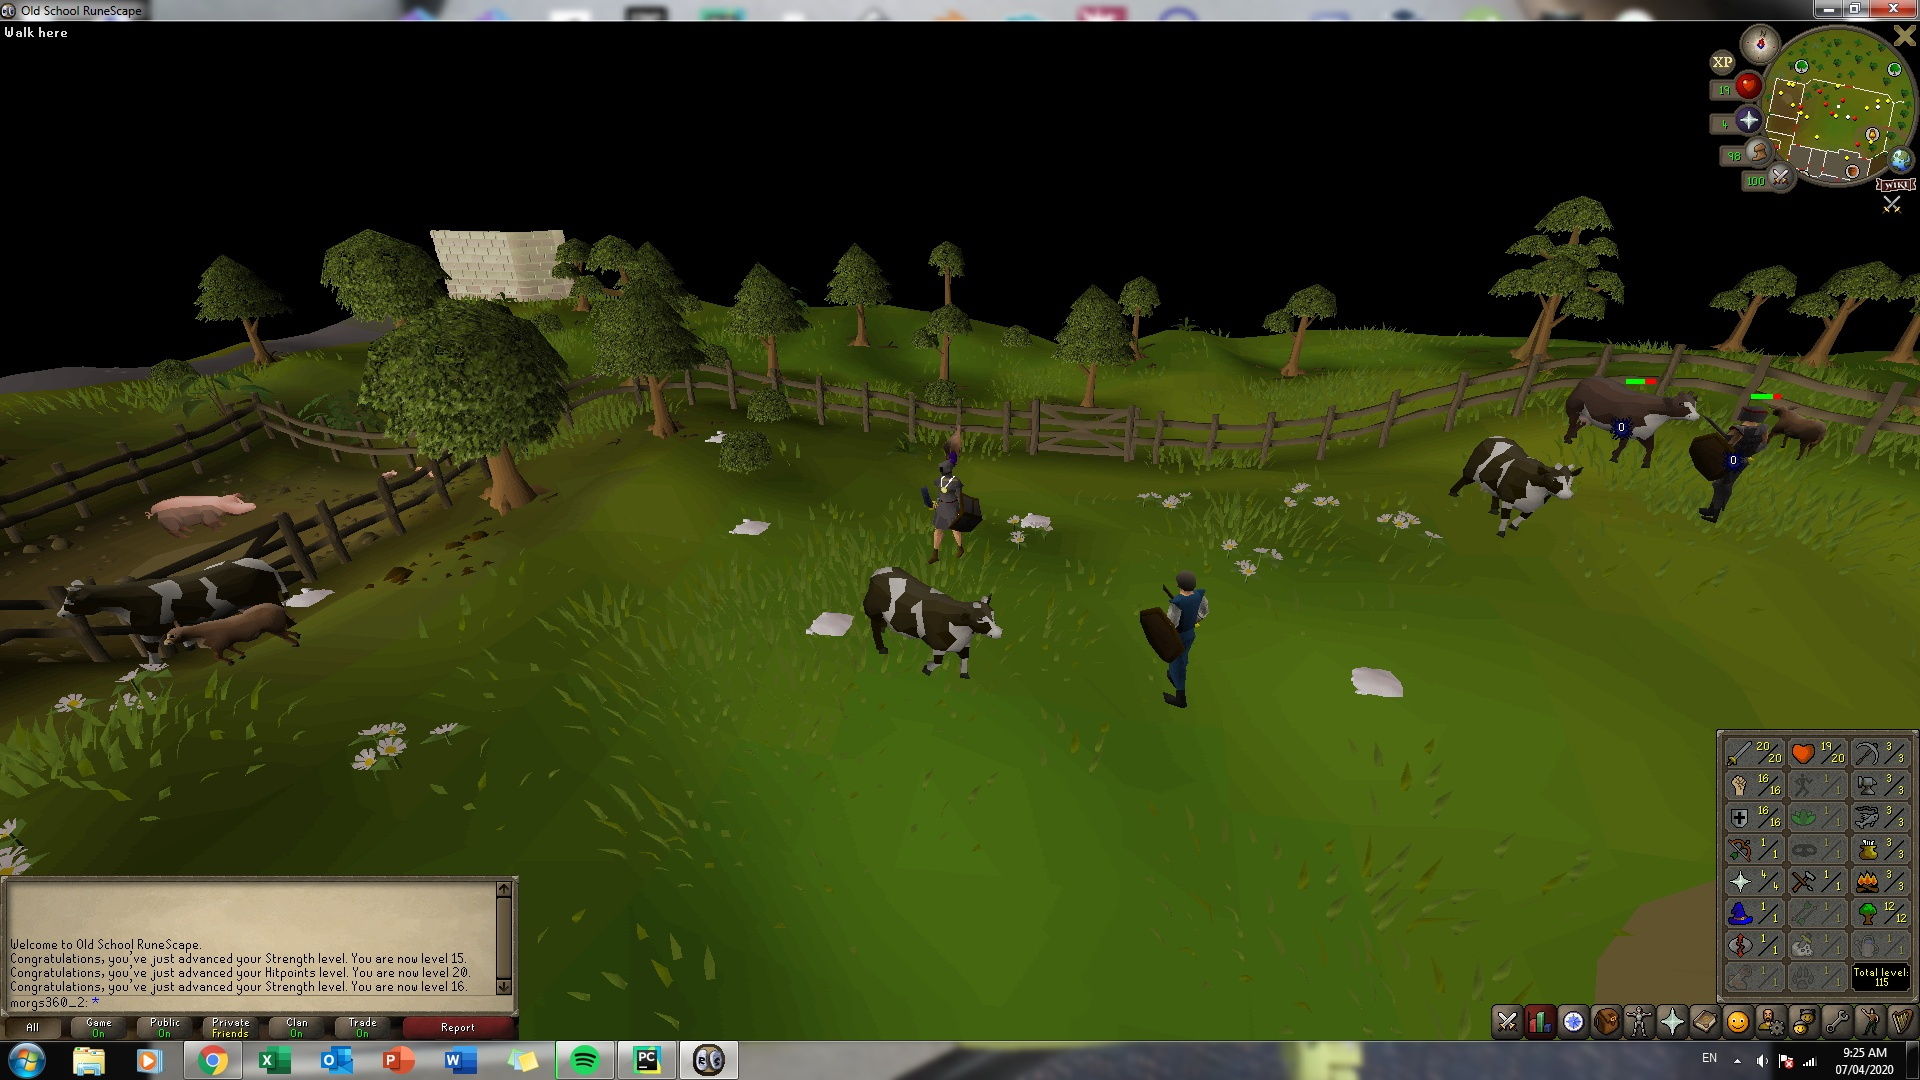cow: (44, 560, 291, 653), (851, 558, 1004, 680), (1448, 430, 1585, 541), (1557, 376, 1704, 471)
